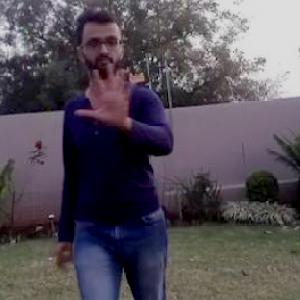follow_hand: (72, 59, 135, 131)
